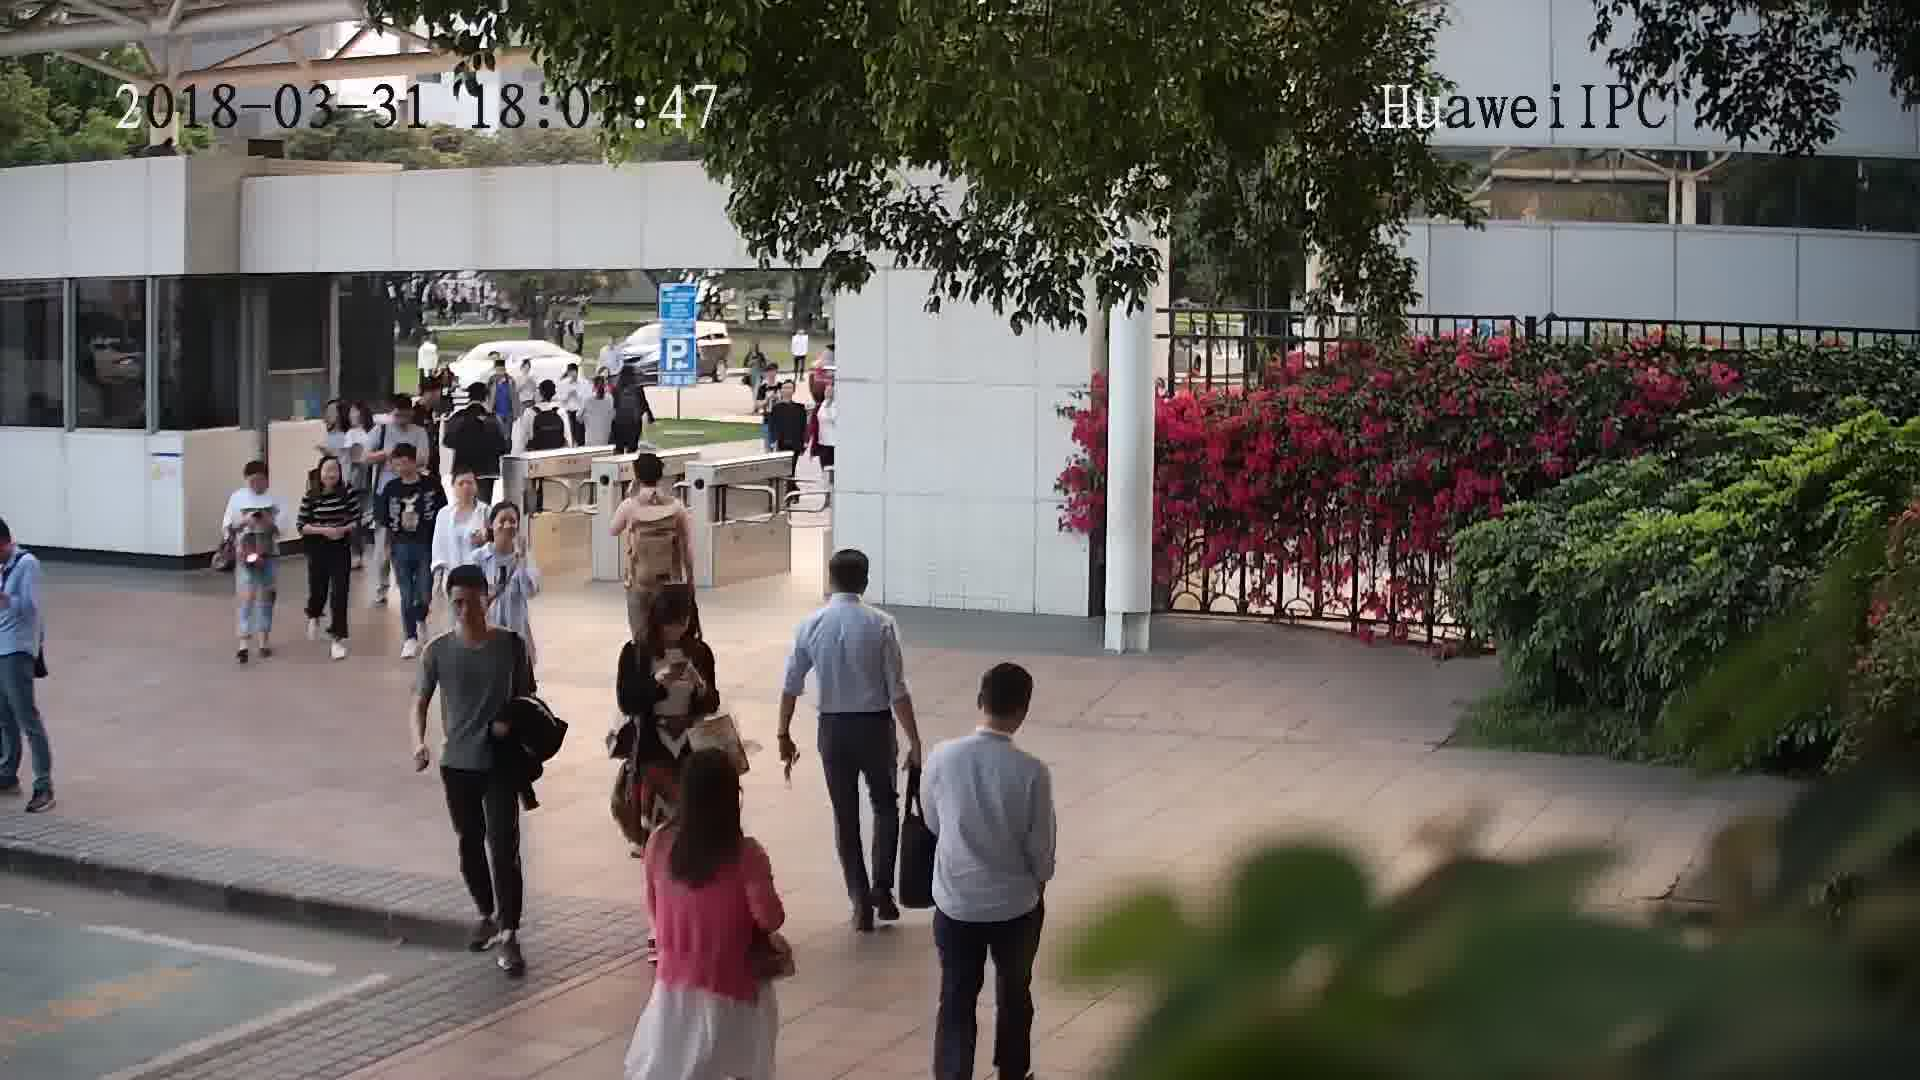face: (446, 582, 491, 627)
person: (923, 657, 1051, 792), (647, 745, 765, 868), (428, 560, 521, 669), (800, 543, 896, 645), (617, 584, 712, 673), (474, 497, 533, 570), (434, 460, 493, 528), (623, 450, 682, 517), (380, 440, 442, 496), (300, 452, 359, 507), (1, 515, 46, 584), (449, 376, 502, 430), (230, 455, 280, 511), (378, 396, 434, 443), (338, 400, 385, 451), (525, 376, 568, 425), (582, 367, 619, 410), (770, 377, 806, 420), (410, 376, 441, 423), (482, 362, 515, 398), (756, 361, 786, 400)
